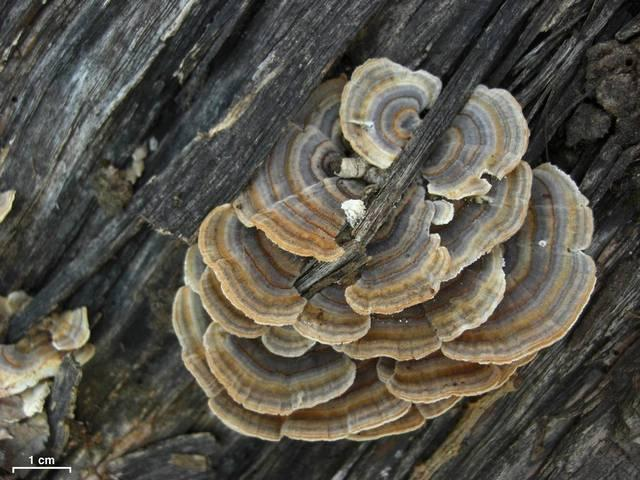poisonous_mushroom: (170, 56, 599, 443)
